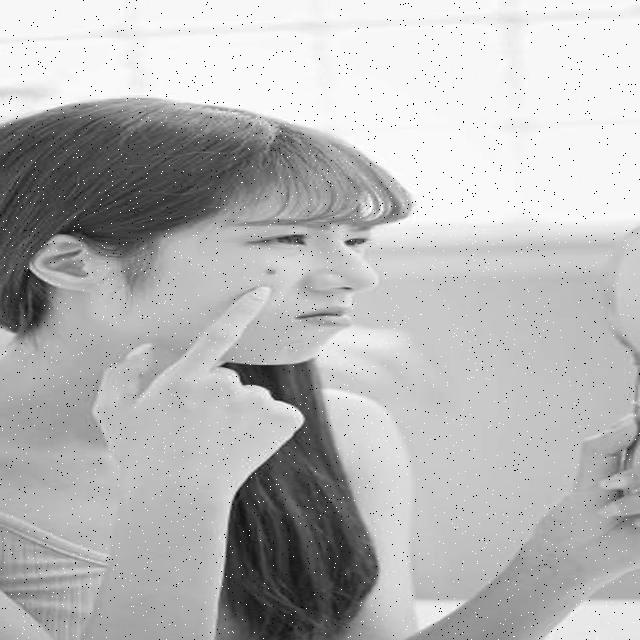Disgust: (139, 169, 380, 366)
